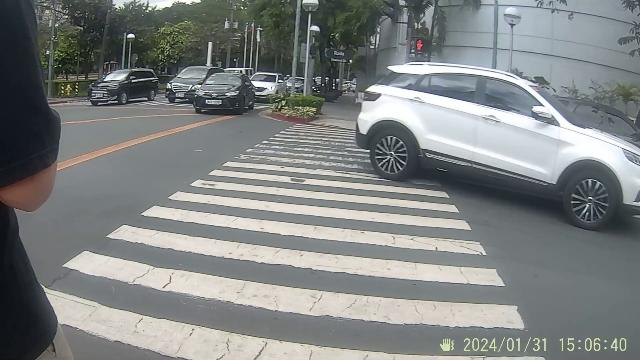car: (356, 50, 634, 220), (188, 65, 264, 118), (92, 64, 158, 108), (169, 61, 225, 101), (248, 67, 284, 101)
lamp_post: (484, 4, 526, 74), (300, 0, 322, 100), (395, 15, 437, 59), (124, 28, 136, 66)
street_sign: (318, 44, 356, 72)
